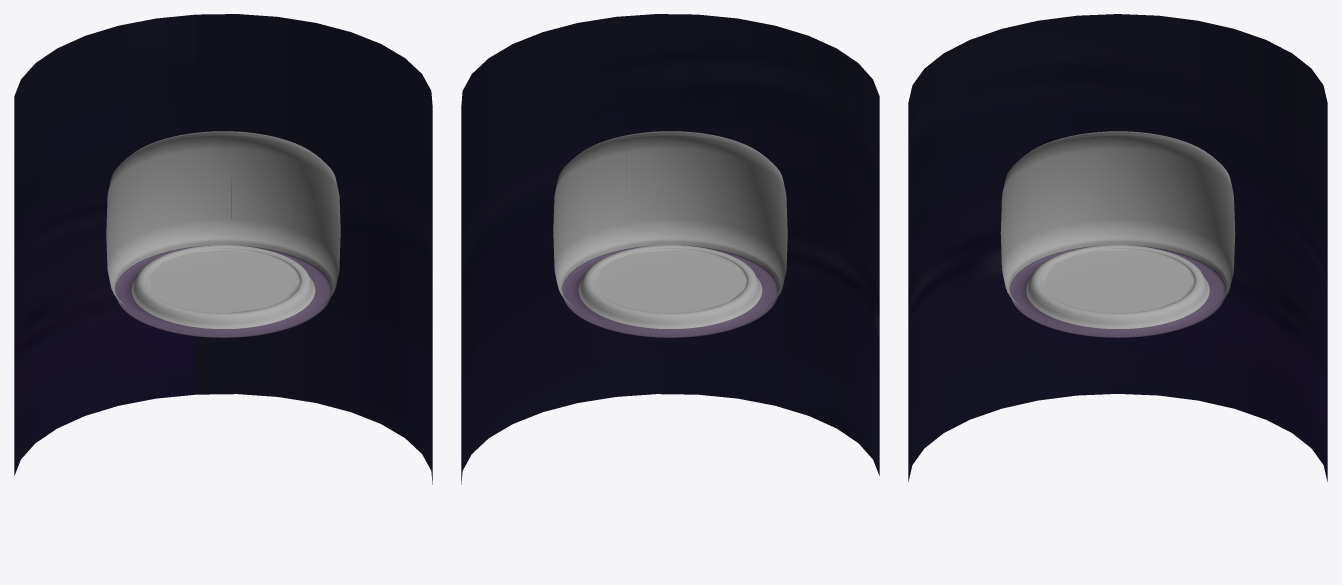
The model's file is auction-dome.glb.
3 renders of one model, left to right at view 1: azimuth 30°, elevation 25°; view 2: azimuth 150°, elevation 25°; view 3: azimuth 270°, elevation 25°, orthographic.
Parts seen in each view (by area): view 1: Background_Material.004_0, Dome_Metal_0, Dome_Glass_0, Dome_Rim_0; view 2: Background_Material.004_0, Dome_Metal_0, Dome_Glass_0, Dome_Rim_0; view 3: Background_Material.004_0, Dome_Metal_0, Dome_Glass_0, Dome_Rim_0.
Boxes of the visible parts, bbox=[...] form: Background_Material.004_0: bbox=[14, 14, 432, 484]; Dome_Metal_0: bbox=[107, 131, 339, 328]; Dome_Glass_0: bbox=[106, 149, 340, 267]; Dome_Rim_0: bbox=[115, 245, 331, 337]; Background_Material.004_0: bbox=[461, 14, 879, 484]; Dome_Metal_0: bbox=[554, 131, 786, 328]; Dome_Glass_0: bbox=[553, 149, 787, 267]; Dome_Rim_0: bbox=[562, 245, 778, 337]; Background_Material.004_0: bbox=[908, 14, 1327, 481]; Dome_Metal_0: bbox=[1002, 131, 1233, 328]; Dome_Glass_0: bbox=[1000, 149, 1235, 265]; Dome_Rim_0: bbox=[1010, 245, 1225, 337].
Bounding box in the file's own units: 10.87 × 10.87 × 10.87.
Materials: 5 (2 with a texture image).
